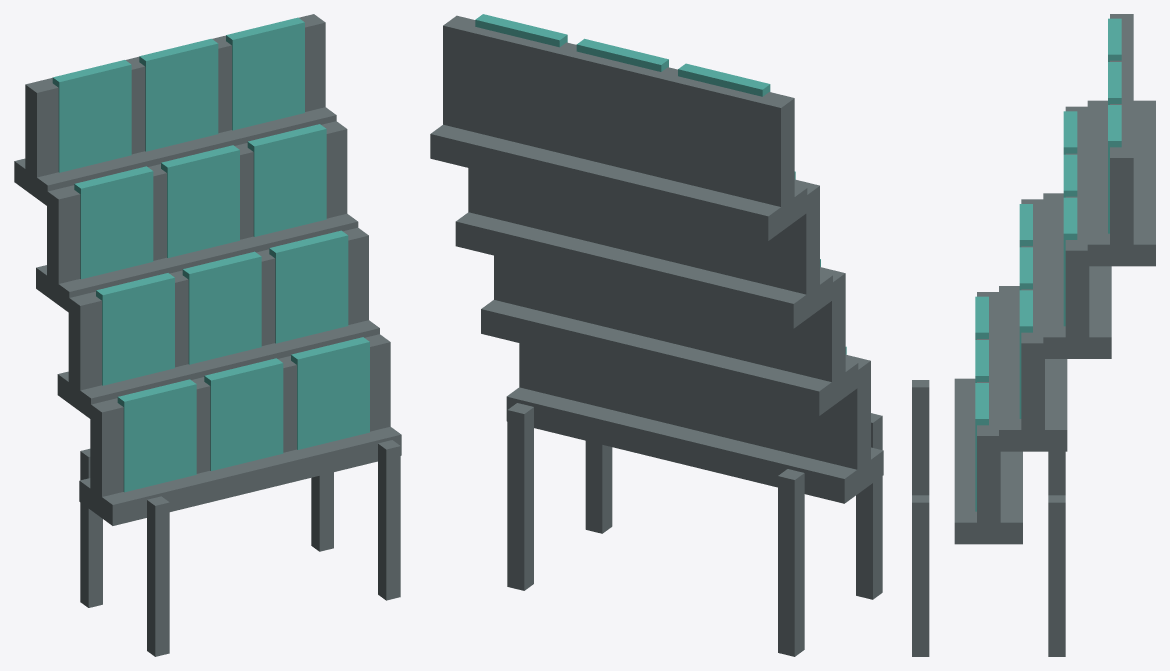
File: supermarket-operations-magazine-rack-4eabed8b__26761.glb
The picture shows the model from 3 angles, left to right: view 1: azimuth 30°, elevation 25°; view 2: azimuth 150°, elevation 25°; view 3: azimuth 270°, elevation 25°; orthographic projection. The views are drawn at different scales.
Parts seen in each view (by area): view 1: magazine-rack; view 2: magazine-rack; view 3: magazine-rack.
Boxes of the visible parts, x1,y1,x2,y2 form: magazine-rack: [14, 14, 401, 656]; magazine-rack: [430, 14, 883, 656]; magazine-rack: [912, 14, 1155, 656].
Bounding box in the file's own units: 1 × 1.67 × 0.7149.
